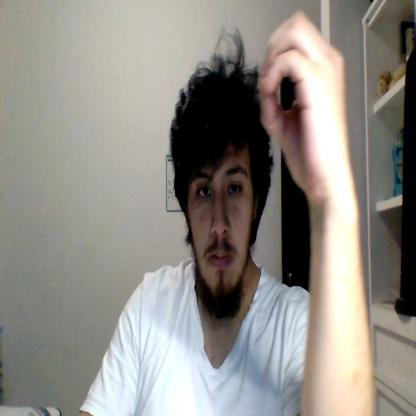O: (258, 10, 346, 190)
